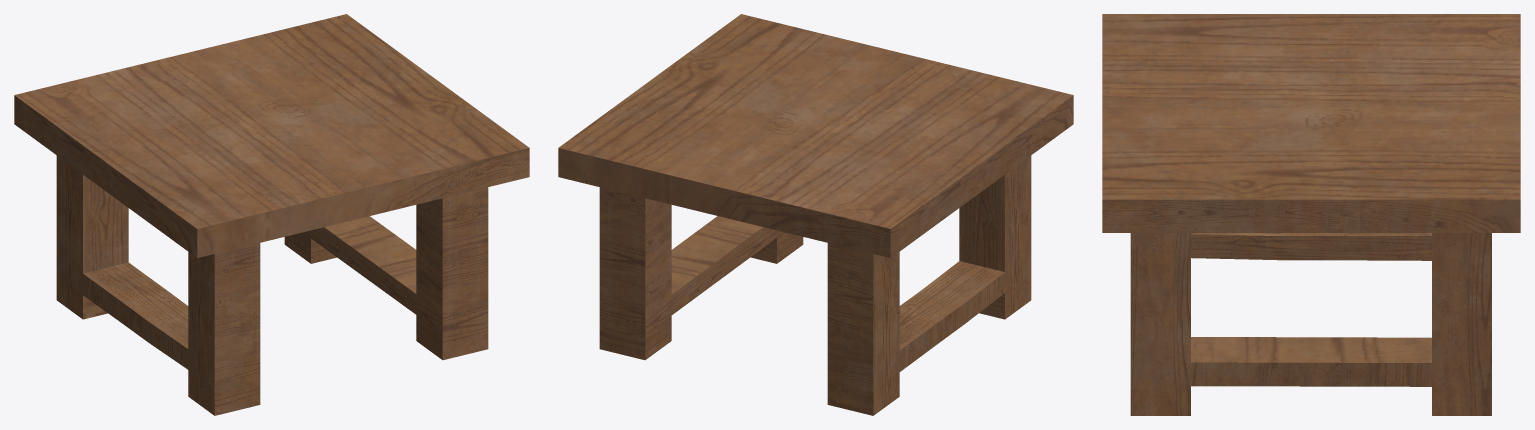
Rendered from shortTable.glb.
3 views of the same model, side by side, from view 1: azimuth 30°, elevation 25°; view 2: azimuth 150°, elevation 25°; view 3: azimuth 270°, elevation 25° (orthographic). The views are drawn at different scales.
Parts seen in each view (by area): view 1: pCube1; view 2: pCube1; view 3: pCube1.
Part boxes in pixels (x1,y1,x2,y2): pCube1: (14,14,529,415); pCube1: (558,14,1073,415); pCube1: (1102,14,1520,415).
Bounding box in the file's own units: 153 × 89.58 × 146.
1 material, 1 textured.
